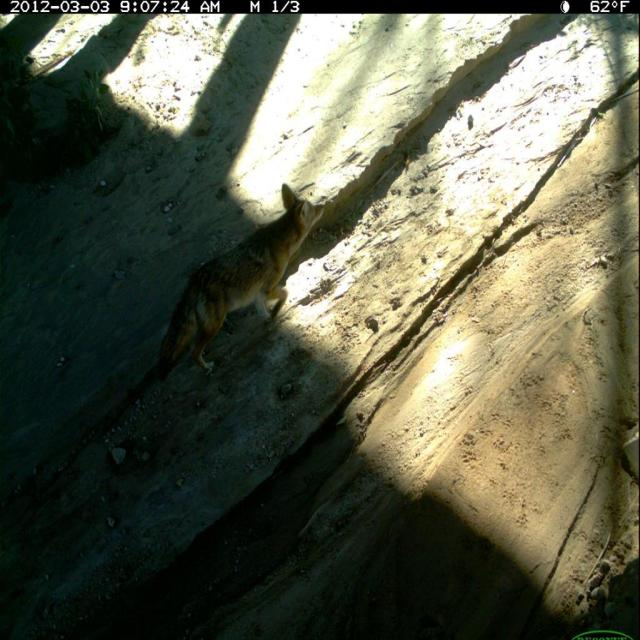coyote: (152, 175, 332, 391)
